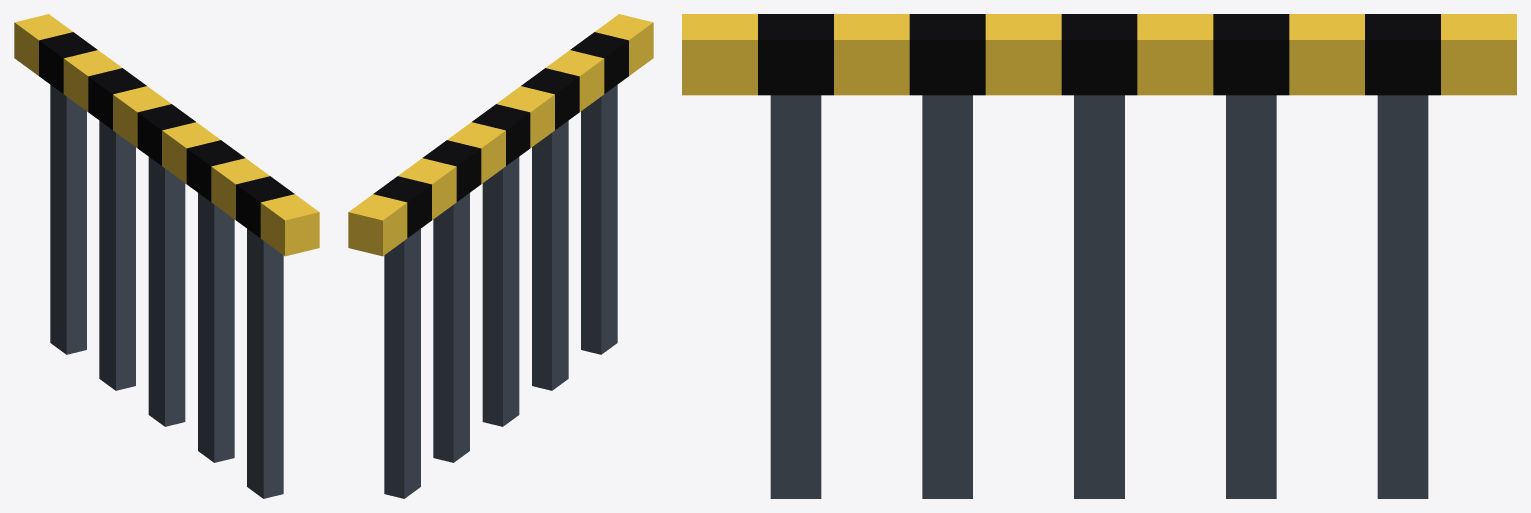
Rendered from RetractableWall.fbx.
3 views of the same model, side by side, from view 1: azimuth 30°, elevation 25°; view 2: azimuth 150°, elevation 25°; view 3: azimuth 270°, elevation 25° (orthographic). The views are drawn at different scales.
Parts seen in each view (by area): view 1: Cube; view 2: Cube; view 3: Cube.
Boxes of the visible parts, x1=… form: Cube: x1=14, y1=14, x2=319, y2=498; Cube: x1=348, y1=14, x2=653, y2=498; Cube: x1=682, y1=14, x2=1516, y2=498.
Size of the model in its own units: 2730 by 200 by 1676.
